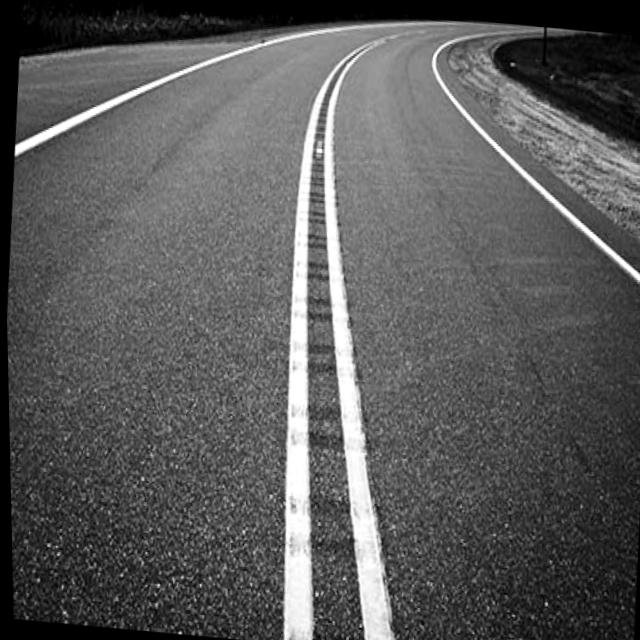cleat: (10, 1, 640, 640)
